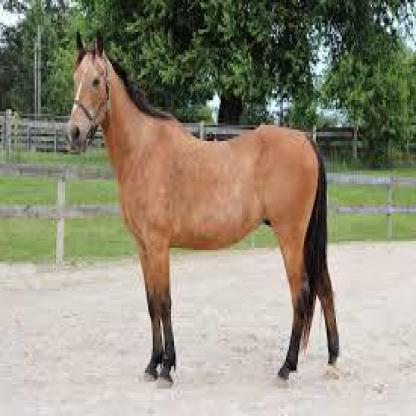horse: (65, 25, 339, 386)
